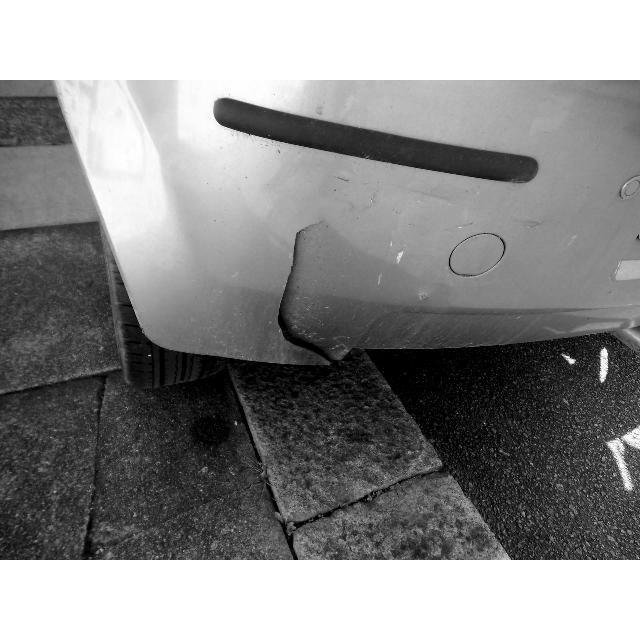rear-bumper-dent: (136, 111, 579, 364)
